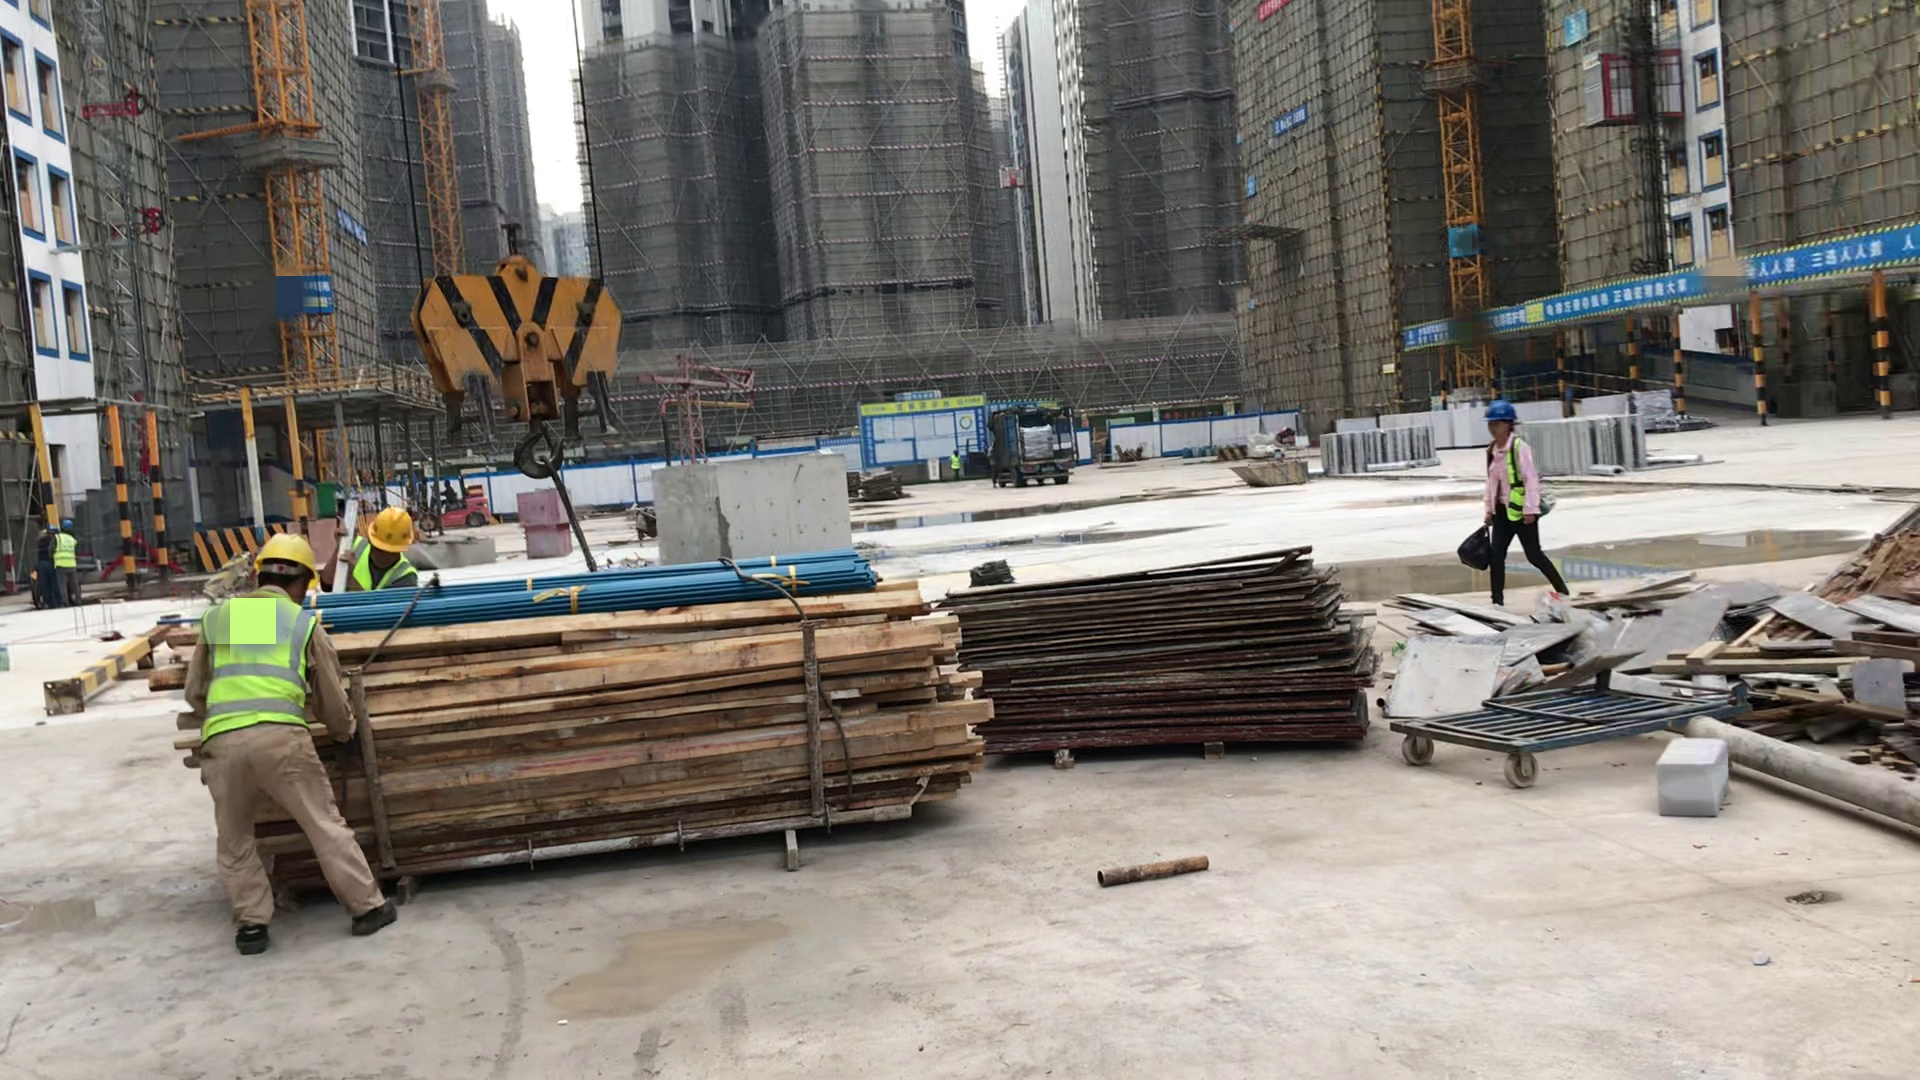board: (939, 576, 1377, 751)
handcart: (1390, 651, 1721, 783)
helmet: (248, 528, 321, 590), (369, 505, 413, 558), (1484, 395, 1524, 430), (58, 516, 74, 529)
hook: (404, 225, 631, 484)
hopper: (413, 526, 505, 568), (1223, 459, 1315, 487)
person: (182, 527, 376, 927), (1469, 390, 1571, 605), (27, 511, 85, 616), (356, 505, 421, 586), (439, 479, 458, 508), (948, 448, 962, 478)
slogan: (1257, 101, 1310, 144), (329, 208, 372, 247), (288, 278, 336, 310)
vest: (192, 591, 314, 737), (1501, 436, 1536, 529), (355, 542, 414, 588), (46, 529, 84, 575), (949, 454, 962, 469)
wood: (322, 615, 977, 835)
